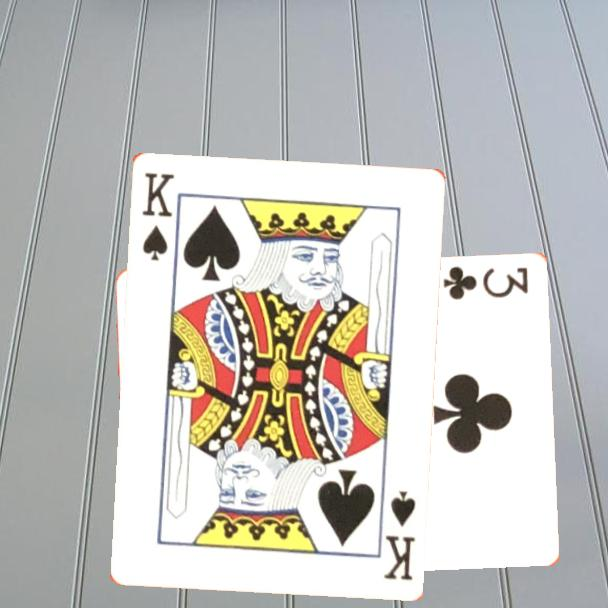c03: (440, 262, 531, 302)
s13: (380, 486, 418, 582), (138, 168, 176, 263)
